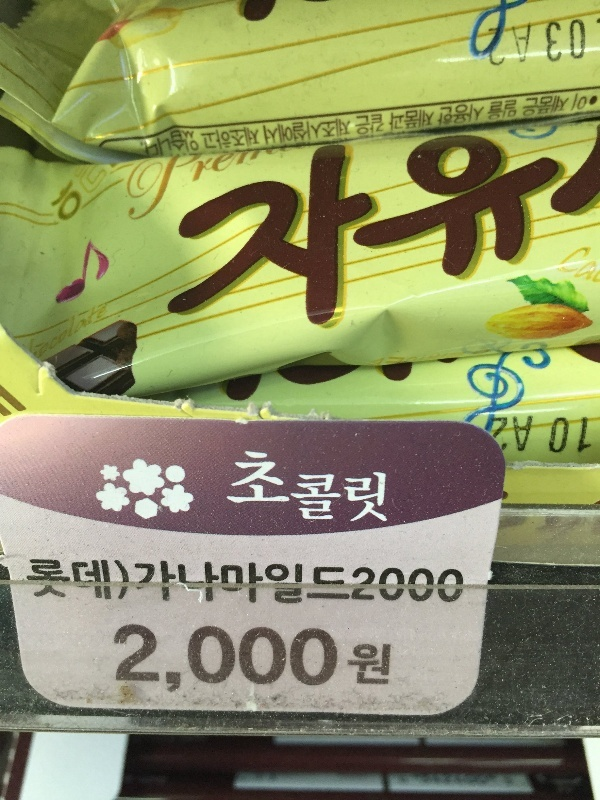text: (177, 117, 192, 369), (193, 117, 208, 369), (209, 117, 224, 369), (225, 117, 240, 369), (241, 117, 256, 369), (257, 117, 272, 369), (273, 117, 288, 369), (289, 117, 304, 369), (305, 117, 320, 369), (321, 117, 336, 369), (337, 117, 352, 369), (353, 117, 368, 369), (369, 117, 384, 369), (385, 117, 400, 369), (401, 117, 416, 369), (417, 117, 432, 369), (433, 117, 448, 369), (449, 117, 464, 369), (465, 117, 480, 369), (481, 117, 496, 369), (497, 117, 512, 369), (513, 117, 528, 369), (529, 117, 544, 369), (545, 117, 560, 369), (165, 117, 176, 369), (241, 441, 256, 534), (257, 441, 272, 534), (273, 441, 288, 534), (289, 441, 304, 534), (305, 441, 320, 534), (321, 441, 336, 534), (337, 441, 352, 534), (353, 441, 368, 534), (369, 441, 384, 534), (145, 88, 160, 167), (161, 88, 176, 167), (177, 88, 192, 167), (193, 88, 208, 167), (209, 88, 224, 167), (225, 88, 240, 167), (241, 88, 256, 167), (257, 88, 272, 167), (273, 88, 288, 167), (289, 88, 304, 167), (305, 88, 320, 167), (321, 88, 336, 167), (337, 88, 352, 167), (353, 88, 368, 167), (369, 88, 384, 167), (385, 88, 400, 167), (401, 88, 416, 167), (417, 88, 432, 167), (433, 88, 448, 167), (449, 88, 464, 167), (465, 88, 480, 167), (481, 88, 496, 167), (497, 88, 512, 167), (513, 88, 528, 167), (529, 88, 544, 167), (545, 88, 560, 167), (561, 88, 576, 167), (113, 619, 128, 695), (129, 619, 144, 695), (145, 619, 160, 695), (161, 619, 176, 695), (177, 619, 192, 695), (193, 619, 208, 695), (209, 619, 224, 695), (225, 619, 240, 695), (241, 619, 256, 695), (257, 619, 272, 695), (273, 619, 288, 695), (289, 619, 304, 695), (305, 619, 320, 695), (321, 619, 336, 695), (337, 619, 352, 695), (353, 619, 368, 695), (369, 619, 384, 695), (577, 88, 590, 167), (229, 441, 240, 534), (497, 16, 512, 71), (513, 16, 528, 71), (529, 16, 544, 71), (545, 16, 560, 71), (561, 16, 576, 71), (577, 411, 593, 461), (33, 553, 48, 605), (49, 553, 64, 605), (65, 553, 80, 605), (81, 553, 96, 605), (97, 553, 112, 605), (113, 553, 128, 605), (385, 619, 395, 695), (145, 556, 160, 606), (161, 556, 176, 606), (177, 556, 192, 606), (193, 556, 208, 606), (209, 556, 224, 606), (225, 556, 240, 606), (241, 556, 256, 606), (257, 556, 272, 606), (273, 556, 288, 606), (289, 556, 304, 606), (305, 556, 320, 606), (321, 556, 336, 606), (337, 556, 352, 606), (497, 411, 512, 461), (513, 411, 528, 461), (529, 411, 544, 461), (545, 411, 560, 461), (561, 411, 576, 461), (353, 561, 368, 609), (369, 561, 384, 609), (385, 561, 400, 609), (401, 561, 416, 609), (417, 561, 432, 609), (433, 561, 448, 609), (449, 561, 464, 609), (577, 16, 589, 71), (385, 441, 392, 534), (133, 556, 144, 606), (561, 117, 563, 369), (138, 88, 144, 167), (24, 553, 32, 605), (488, 411, 496, 461), (489, 16, 496, 71), (129, 553, 131, 605), (465, 561, 467, 609), (351, 561, 352, 609)
